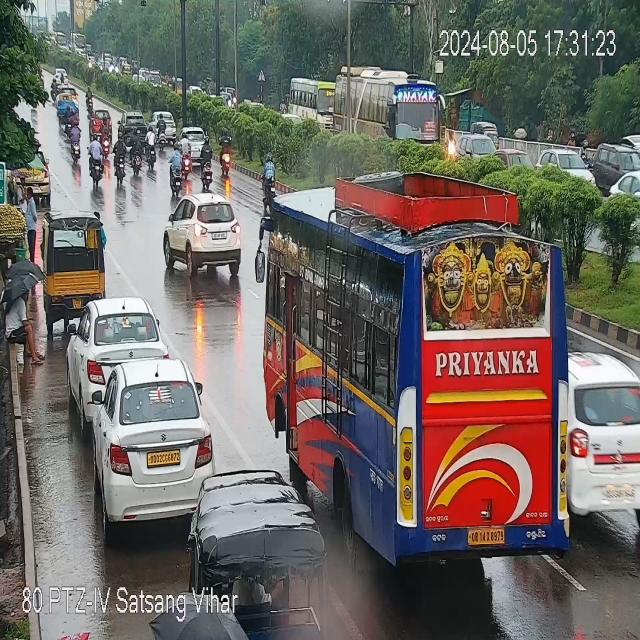2-wheelers: (264, 158, 281, 210), (87, 135, 104, 184), (168, 150, 186, 196), (198, 146, 215, 188), (216, 131, 233, 171), (68, 123, 83, 162), (115, 134, 127, 182), (132, 127, 141, 174), (146, 128, 156, 170), (156, 113, 166, 151), (102, 119, 110, 159), (158, 116, 167, 148), (444, 129, 456, 152), (86, 87, 94, 112), (65, 106, 71, 134), (51, 78, 57, 103), (70, 110, 79, 124), (60, 72, 64, 84)
auto: (190, 469, 334, 640), (46, 212, 106, 315), (473, 123, 500, 146), (58, 91, 76, 124)
bus: (265, 180, 578, 583), (335, 68, 441, 152), (288, 70, 338, 138)
car: (84, 363, 214, 526), (564, 348, 638, 532), (71, 298, 164, 391), (168, 195, 241, 270), (592, 133, 640, 186), (542, 148, 596, 190), (154, 110, 181, 142), (119, 110, 145, 138), (183, 125, 210, 149), (90, 108, 101, 138)
pedestrian: (6, 260, 44, 360), (24, 184, 38, 257)
